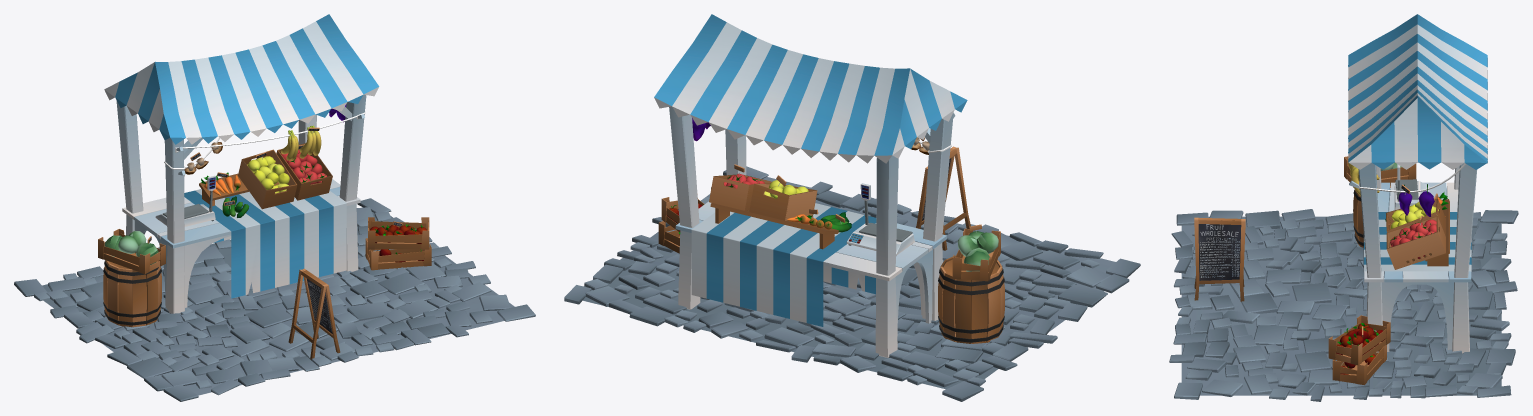
File: market_stall.glb
3 renders of one model, left to right at view 1: azimuth 30°, elevation 25°; view 2: azimuth 150°, elevation 25°; view 3: azimuth 270°, elevation 25°, orthographic. The views are drawn at different scales.
Parts seen in each view (by area): view 1: CScatter_convert_CScatter_convert_Plane076, Line013, Line010, Box015, Plane019, Cylinder001, Box016, Box041, Box017, Box014, Box040, Box013 (+6 smaller); view 2: CScatter_convert_CScatter_convert_Plane076, Line013, Line010, Box015, Plane019, Cylinder001, Box016, Box017, Box045, Cylinder006, Box018, Line007 (+4 smaller); view 3: CScatter_convert_CScatter_convert_Plane076, Line013, Plane019, Box015, Box042, Box016, Box018, Line010, Line007, Box014, Box041, Box013 (+5 smaller).
Boxes of the visible parts, x1,y1,x2,y2 form: CScatter_convert_CScatter_convert_Plane076: [14, 198, 535, 401]; Line013: [104, 14, 379, 144]; Line010: [184, 189, 346, 298]; Box015: [116, 94, 366, 313]; Plane019: [42, 207, 514, 395]; Cylinder001: [103, 260, 161, 327]; Box016: [122, 179, 360, 248]; Box041: [288, 268, 340, 359]; Box017: [238, 149, 297, 209]; Box014: [368, 217, 429, 249]; Box040: [98, 229, 165, 274]; Box013: [365, 238, 431, 270]; CScatter_convert_CScatter_convert_Plane076: [564, 166, 1140, 401]; Line013: [654, 14, 967, 163]; Line010: [691, 203, 876, 326]; Box015: [669, 106, 953, 357]; Plane019: [583, 177, 1115, 389]; Cylinder001: [938, 255, 1004, 343]; Box016: [675, 201, 946, 281]; Box017: [749, 183, 817, 220]; Box045: [846, 183, 914, 255]; Cylinder006: [938, 268, 1004, 342]; Box018: [709, 174, 771, 210]; Line007: [895, 249, 932, 335]; CScatter_convert_CScatter_convert_Plane076: [1169, 209, 1518, 401]; Line013: [1348, 14, 1487, 169]; Plane019: [1181, 216, 1501, 395]; Box015: [1358, 162, 1476, 353]; Box042: [1198, 224, 1241, 280]; Box016: [1364, 182, 1471, 282]; Box018: [1386, 216, 1445, 269]; Line010: [1363, 212, 1471, 271]; Line007: [1381, 188, 1453, 351]; Box014: [1328, 315, 1390, 365]; Box041: [1194, 217, 1245, 301]; Box013: [1332, 345, 1386, 385].
Bounding box in the file's own units: 255 × 157 × 196.
22 materials, 19 textured.
